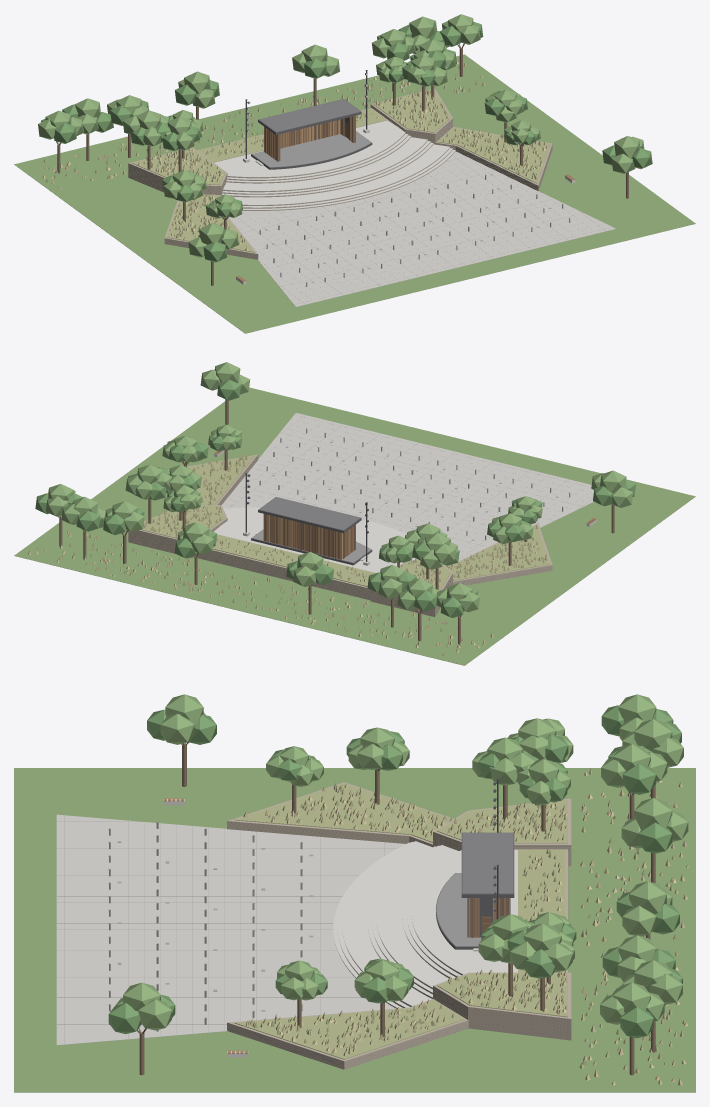
File: clay-market-square-clay-v001.glb
3 views of the same model, one above another, from view 1: azimuth 30°, elevation 25°; view 2: azimuth 150°, elevation 25°; view 3: azimuth 270°, elevation 25° (orthographic). The views are drawn at different scales.
Visible parts, largest first — view 1: CLAY_LAWN, CLAY_PAVING, CLAY_TREE2, CLAY_CONCRETE, CLAY_MEADOW, CLAY_TREE, CLAY_STONE, CLAY_MEADOW2, CLAY_DECK, CLAY_ROOF, CLAY_BARK, CLAY_JOINT2 (+6 smaller); view 2: CLAY_LAWN, CLAY_PAVING, CLAY_TREE2, CLAY_MEADOW, CLAY_TREE, CLAY_STONE, CLAY_MEADOW2, CLAY_CONCRETE, CLAY_BARK, CLAY_ROOF, CLAY_TIMBER3, CLAY_TIMBER (+5 smaller); view 3: CLAY_LAWN, CLAY_PAVING, CLAY_TREE2, CLAY_MEADOW, CLAY_CONCRETE, CLAY_TREE, CLAY_STONE, CLAY_MEADOW2, CLAY_ROOF, CLAY_JOINT2, CLAY_BARK, CLAY_JOINT (+4 smaller).
Boxes of the visible parts, left/top/right/bottom form: CLAY_LAWN: left=14, top=54, right=695, bottom=333; CLAY_PAVING: left=228, top=151, right=615, bottom=306; CLAY_TREE2: left=38, top=14, right=644, bottom=257; CLAY_CONCRETE: left=214, top=120, right=575, bottom=284; CLAY_MEADOW: left=43, top=72, right=550, bottom=252; CLAY_TREE: left=41, top=22, right=652, bottom=262; CLAY_STONE: left=128, top=88, right=552, bottom=259; CLAY_MEADOW2: left=42, top=57, right=547, bottom=251; CLAY_DECK: left=252, top=131, right=371, bottom=167; CLAY_ROOF: left=259, top=99, right=360, bottom=132; CLAY_BARK: left=56, top=43, right=628, bottom=285; CLAY_JOINT2: left=237, top=155, right=605, bottom=304; CLAY_LAWN: left=14, top=387, right=695, bottom=665; CLAY_PAVING: left=221, top=413, right=593, bottom=561; CLAY_TREE2: left=46, top=362, right=633, bottom=612; CLAY_MEADOW: left=60, top=455, right=550, bottom=656; CLAY_TREE: left=35, top=379, right=635, bottom=617; CLAY_STONE: left=128, top=454, right=552, bottom=616; CLAY_MEADOW2: left=28, top=455, right=547, bottom=652; CLAY_CONCRETE: left=214, top=450, right=596, bottom=572; CLAY_BARK: left=58, top=399, right=614, bottom=644; CLAY_ROOF: left=259, top=497, right=360, bottom=530; CLAY_TIMBER3: left=263, top=514, right=355, bottom=558; CLAY_TIMBER: left=214, top=450, right=596, bottom=559; CLAY_LAWN: left=14, top=768, right=695, bottom=1092; CLAY_PAVING: left=56, top=814, right=405, bottom=1045; CLAY_TREE2: left=115, top=694, right=688, bottom=1030; CLAY_MEADOW: left=235, top=782, right=685, bottom=1073; CLAY_CONCRETE: left=163, top=799, right=517, bottom=1057; CLAY_TREE: left=108, top=705, right=682, bottom=1038; CLAY_STONE: left=227, top=782, right=571, bottom=1069; CLAY_MEADOW2: left=243, top=768, right=688, bottom=1085; CLAY_ROOF: left=462, top=833, right=513, bottom=893; CLAY_JOINT2: left=57, top=816, right=396, bottom=1043; CLAY_BARK: left=137, top=741, right=655, bottom=1075; CLAY_JOINT: left=57, top=822, right=360, bottom=1037.
Size of the model in its own units: 72 by 11.25 by 64.
